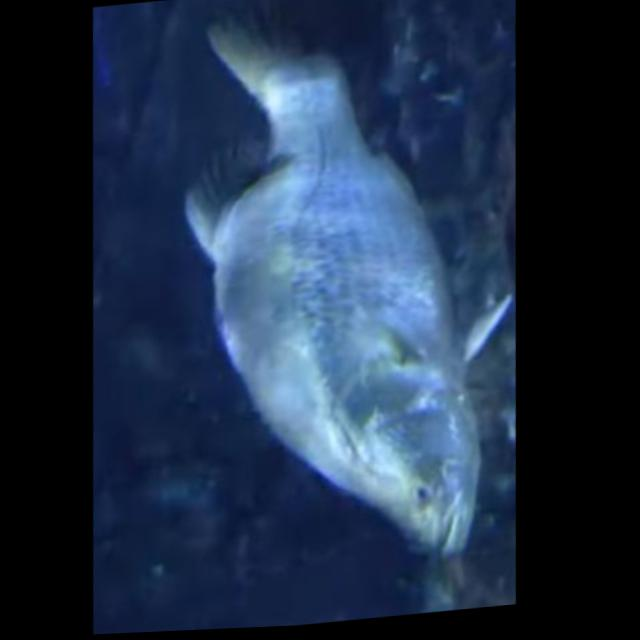Seabass: (150, 0, 544, 587)
